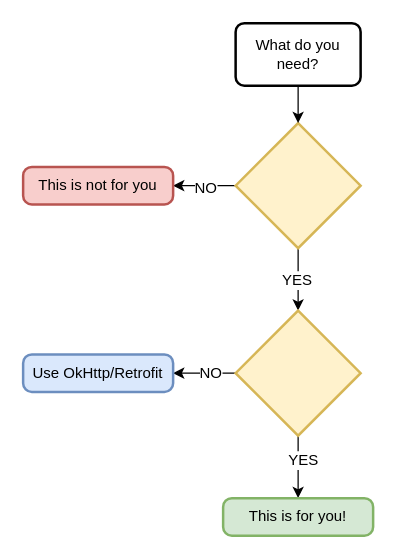
Some shapes in this 395 by 558 pixel diagram are drawn without their labels. Here are the shapes that lost their labels. From the top down, the centre of each, then its label:
the point at 297,185: make a request to a server
the point at 297,372: you want to send files
